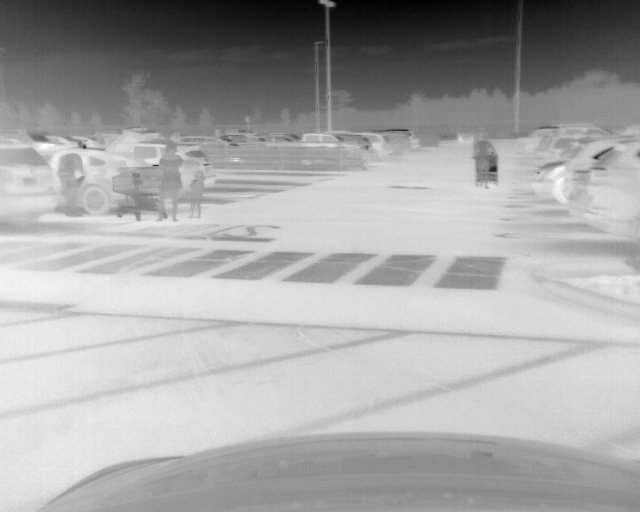car: (567, 137, 640, 261), (44, 146, 156, 214), (531, 138, 628, 204), (117, 141, 215, 203), (1, 143, 61, 229), (532, 126, 619, 164), (299, 133, 373, 166), (362, 133, 406, 159), (457, 126, 488, 143)
people: (155, 142, 184, 220), (56, 154, 87, 215), (472, 131, 496, 188), (187, 166, 205, 217)
